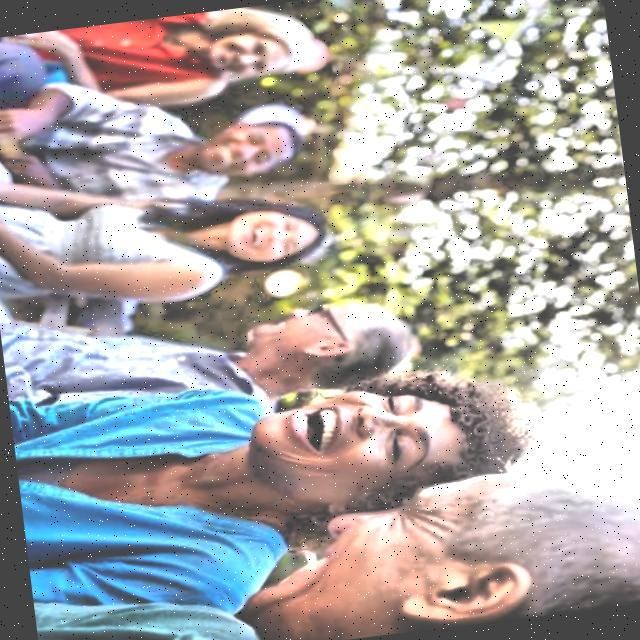happy: (211, 451, 640, 640), (241, 347, 530, 548), (232, 288, 416, 393), (179, 100, 314, 193), (182, 6, 310, 89), (211, 191, 331, 279)
